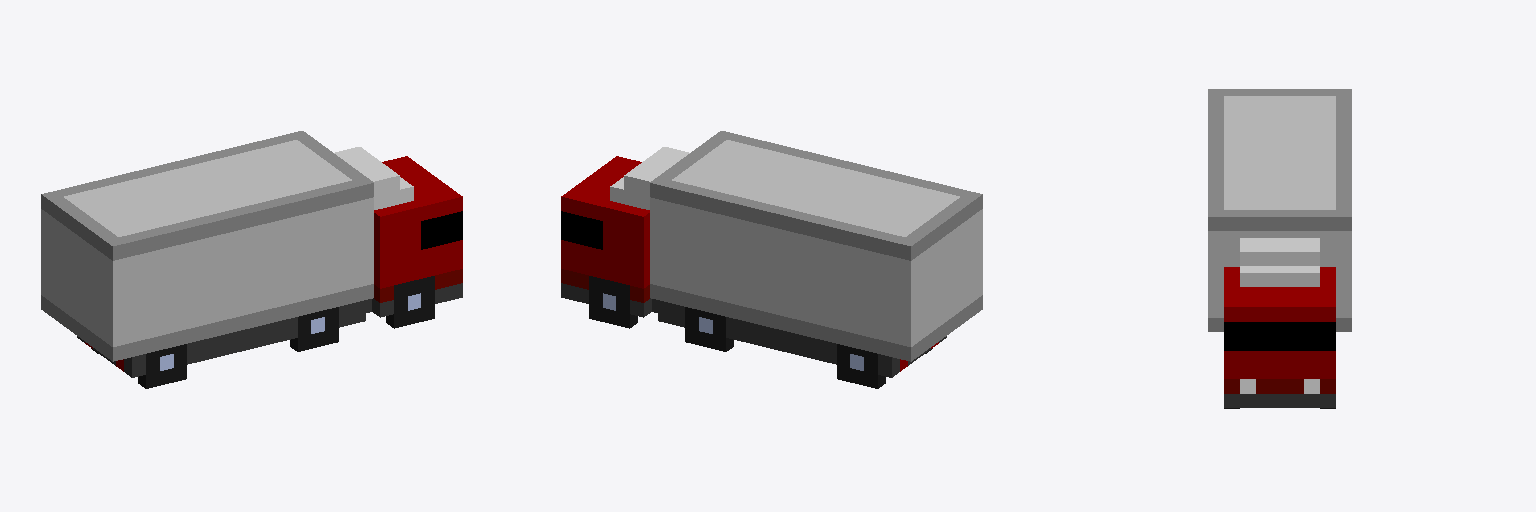
3 renders of one model, left to right at view 1: azimuth 30°, elevation 25°; view 2: azimuth 150°, elevation 25°; view 3: azimuth 270°, elevation 25°, orthographic.
Parts seen in each view (by area): view 1: Matrix_3; view 2: Matrix_3; view 3: Matrix_3.
Boxes of the visible parts, x1,y1,x2,y2 form: Matrix_3: [41, 131, 462, 388]; Matrix_3: [561, 131, 982, 388]; Matrix_3: [1208, 89, 1351, 408].
Size of the model in its own units: 26 by 11 by 9.
Materials: 1 (1 with a texture image).